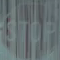Stop: (4, 5, 56, 55)
